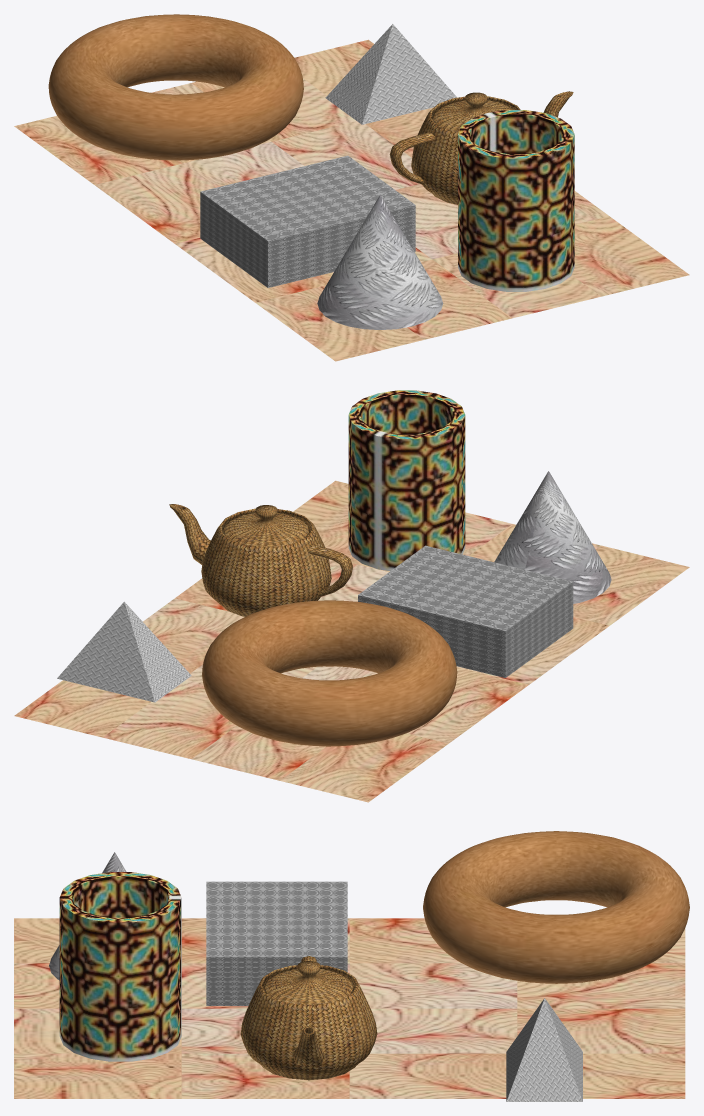
File: escenaFreez.DAE
The picture shows the model from 3 angles, top to bottom: view 1: azimuth 30°, elevation 25°; view 2: azimuth 150°, elevation 25°; view 3: azimuth 270°, elevation 25°; orthographic projection. The views are drawn at different scales.
Parts seen in each view (by area): view 1: Plane001, Torus001, Tube001, Box001, Cone001, Pyramid001, Teapot001; view 2: Plane001, Torus001, Tube001, Box001, Teapot001, Cone001, Pyramid001; view 3: Plane001, Torus001, Tube001, Box001, Teapot001, Pyramid001, Cone001.
Boxes of the visible parts, <box> form: Plane001: <box>14,39,689,361</box>; Torus001: <box>48,14,303,160</box>; Tube001: <box>458,110,574,291</box>; Box001: <box>200,155,415,287</box>; Cone001: <box>317,194,443,329</box>; Pyramid001: <box>325,24,456,124</box>; Teapot001: <box>389,91,573,204</box>; Plane001: <box>14,480,689,802</box>; Torus001: <box>202,600,457,746</box>; Tube001: <box>348,390,465,571</box>; Box001: <box>358,545,573,677</box>; Teapot001: <box>169,504,352,616</box>; Cone001: <box>494,471,611,603</box>; Pyramid001: <box>57,601,191,702</box>; Plane001: <box>14,918,685,1098</box>; Torus001: <box>423,831,689,983</box>; Tube001: <box>59,872,181,1061</box>; Box001: <box>206,881,347,1005</box>; Teapot001: <box>240,956,377,1080</box>; Pyramid001: <box>506,998,582,1101</box>; Cone001: <box>49,852,126,980</box>.
Bounding box in the file's own units: 232 × 75.8 × 334.
